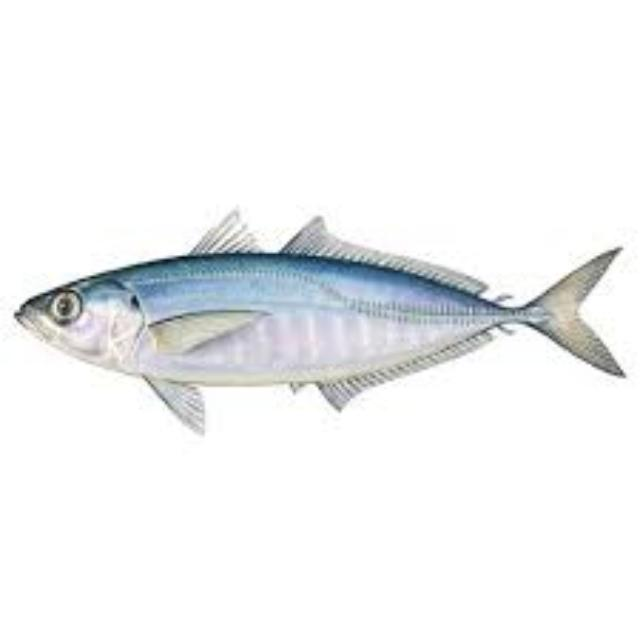Mulut: (10, 296, 64, 362)
Sirip Anal: (307, 322, 507, 413)
Sirip Dada: (144, 300, 270, 366)
Sirip Ekor: (525, 223, 635, 401)
Sirip Perut: (132, 364, 225, 444)
Sirip Punggung: (179, 178, 491, 300)
